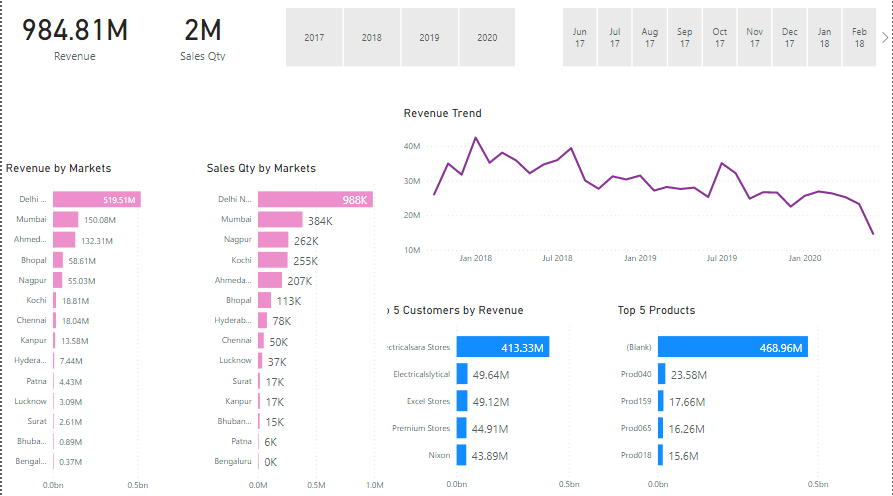

What the dashboard file says about the page in this screenshot:
{"tool":"powerbi","page":{"name":"SalesInsight","canvas":[1280,720],"ordinal":0},"visuals":[{"type":"card","fields":{"Values":["BaseMeasures.Revenue"]},"box":[15.8,10.1,176.8,87.7],"z":0},{"type":"card","fields":{"Values":["BaseMeasures.Sales Qty"]},"box":[208.4,10.1,159.5,87.7],"z":1000},{"type":"barChart","title":"Top 5 Customers by Revenue","fields":{"Y":["BaseMeasures.Revenue"],"Category":["sales customers.custmer_name"]},"box":[525.8,441.8,341,278.8],"z":2000},{"type":"slicer","fields":{"Values":["sales date.year"]},"box":[382.3,10.1,379.4,97.7],"z":3000},{"type":"slicer","fields":{"Values":["sales date.cy_date"]},"box":[780.4,10.1,500.1,97.7],"z":4000},{"type":"barChart","title":"Revenue by Markets","fields":{"Y":["BaseMeasures.Revenue"],"Category":["sales markets.markets_name"]},"box":[0,236.9,238.5,483.8],"z":5000},{"type":"barChart","title":"Sales Qty by Markets","fields":{"Y":["BaseMeasures.Sales Qty"],"Category":["sales markets.markets_name"]},"box":[288.9,236.9,265.4,483.8],"z":6000},{"type":"barChart","title":"Top 5 Products","fields":{"Y":["BaseMeasures.Revenue"],"Category":["sales products.product_code"]},"box":[880.2,441.8,359.5,278.8],"z":7000},{"type":"lineChart","title":"Revenue Trend","fields":{"Y":["BaseMeasures.Revenue"],"Category":["sales date.cy_date"]},"box":[572,158.1,708.5,237.1],"z":8000}]}

Visuals, with their boxes in screenshot pixels (x1, y1, x2, y2), scaled from the page's 1280x720 canvas onto the 893x496 screenshot:
card - BaseMeasures.Revenue: region(11, 7, 134, 67)
card - BaseMeasures.Sales Qty: region(145, 7, 257, 67)
"Top 5 Customers by Revenue" barChart: region(367, 304, 605, 495)
slicer - sales date.year: region(267, 7, 531, 74)
slicer - sales date.cy_date: region(544, 7, 892, 74)
"Revenue by Markets" barChart: region(0, 163, 166, 495)
"Sales Qty by Markets" barChart: region(202, 163, 387, 495)
"Top 5 Products" barChart: region(614, 304, 865, 495)
"Revenue Trend" lineChart: region(399, 109, 892, 272)
